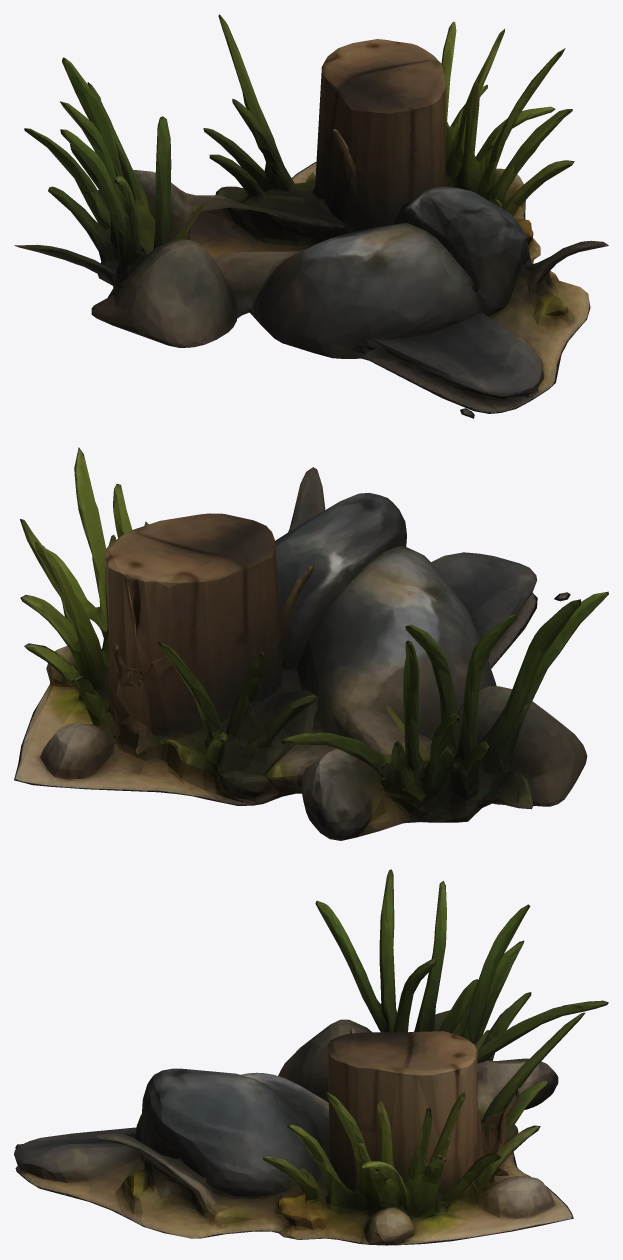
The picture shows the model from 3 angles, top to bottom: view 1: azimuth 30°, elevation 25°; view 2: azimuth 150°, elevation 25°; view 3: azimuth 270°, elevation 25°; orthographic projection. The views are drawn at different scales.
Visible parts, largest first — view 1: world; view 2: world; view 3: world.
Boxes of the visible parts, x1,y1,x2,y2 form: world: (14, 14, 608, 418); world: (14, 447, 608, 840); world: (14, 869, 608, 1245).
Size of the model in its own units: 0.8733 by 0.3478 by 0.9987.
Materials: 1 (1 with a texture image).
